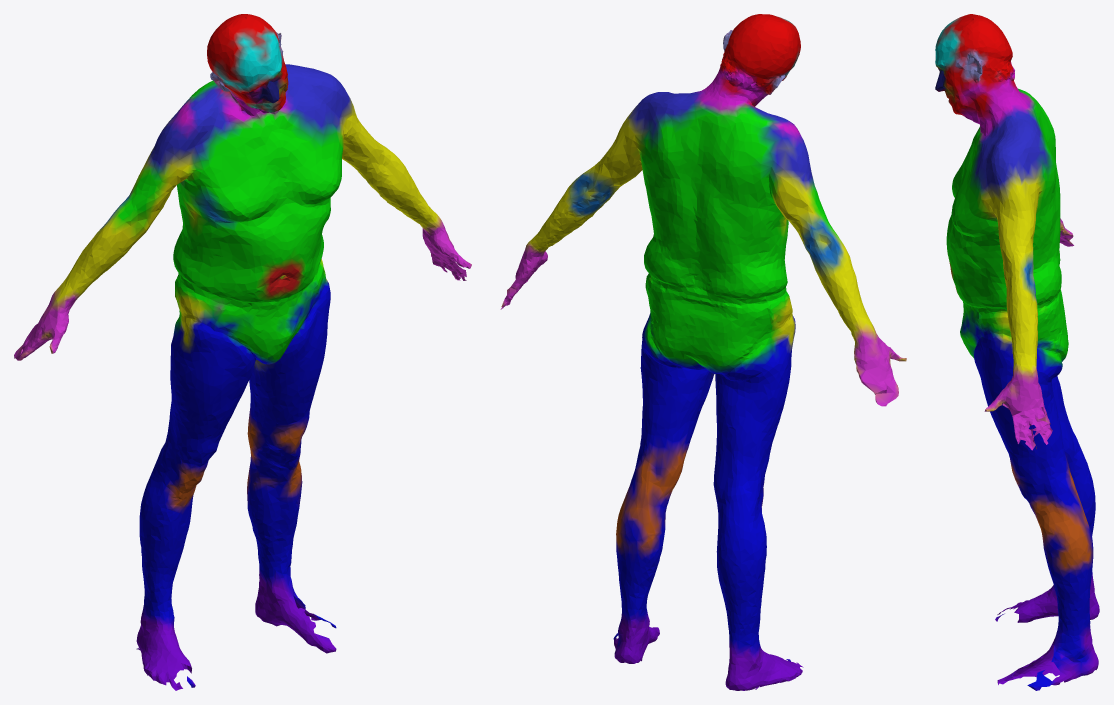
3 views of the same model, side by side, from view 1: azimuth 30°, elevation 25°; view 2: azimuth 150°, elevation 25°; view 3: azimuth 270°, elevation 25° (orthographic). The views are drawn at different scales.
Visible parts, largest first — view 1: 35; view 2: 35; view 3: 35.
Boxes of the visible parts, left/top/right/bottom form: 35: left=14, top=14, right=471, bottom=690; 35: left=500, top=14, right=906, bottom=690; 35: left=935, top=14, right=1099, bottom=690.
Size of the model in its own units: 1.2 by 1.78 by 0.4266.
